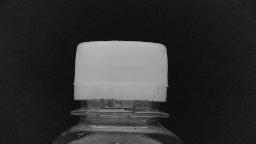Loose Cap: (61, 78, 177, 122)
